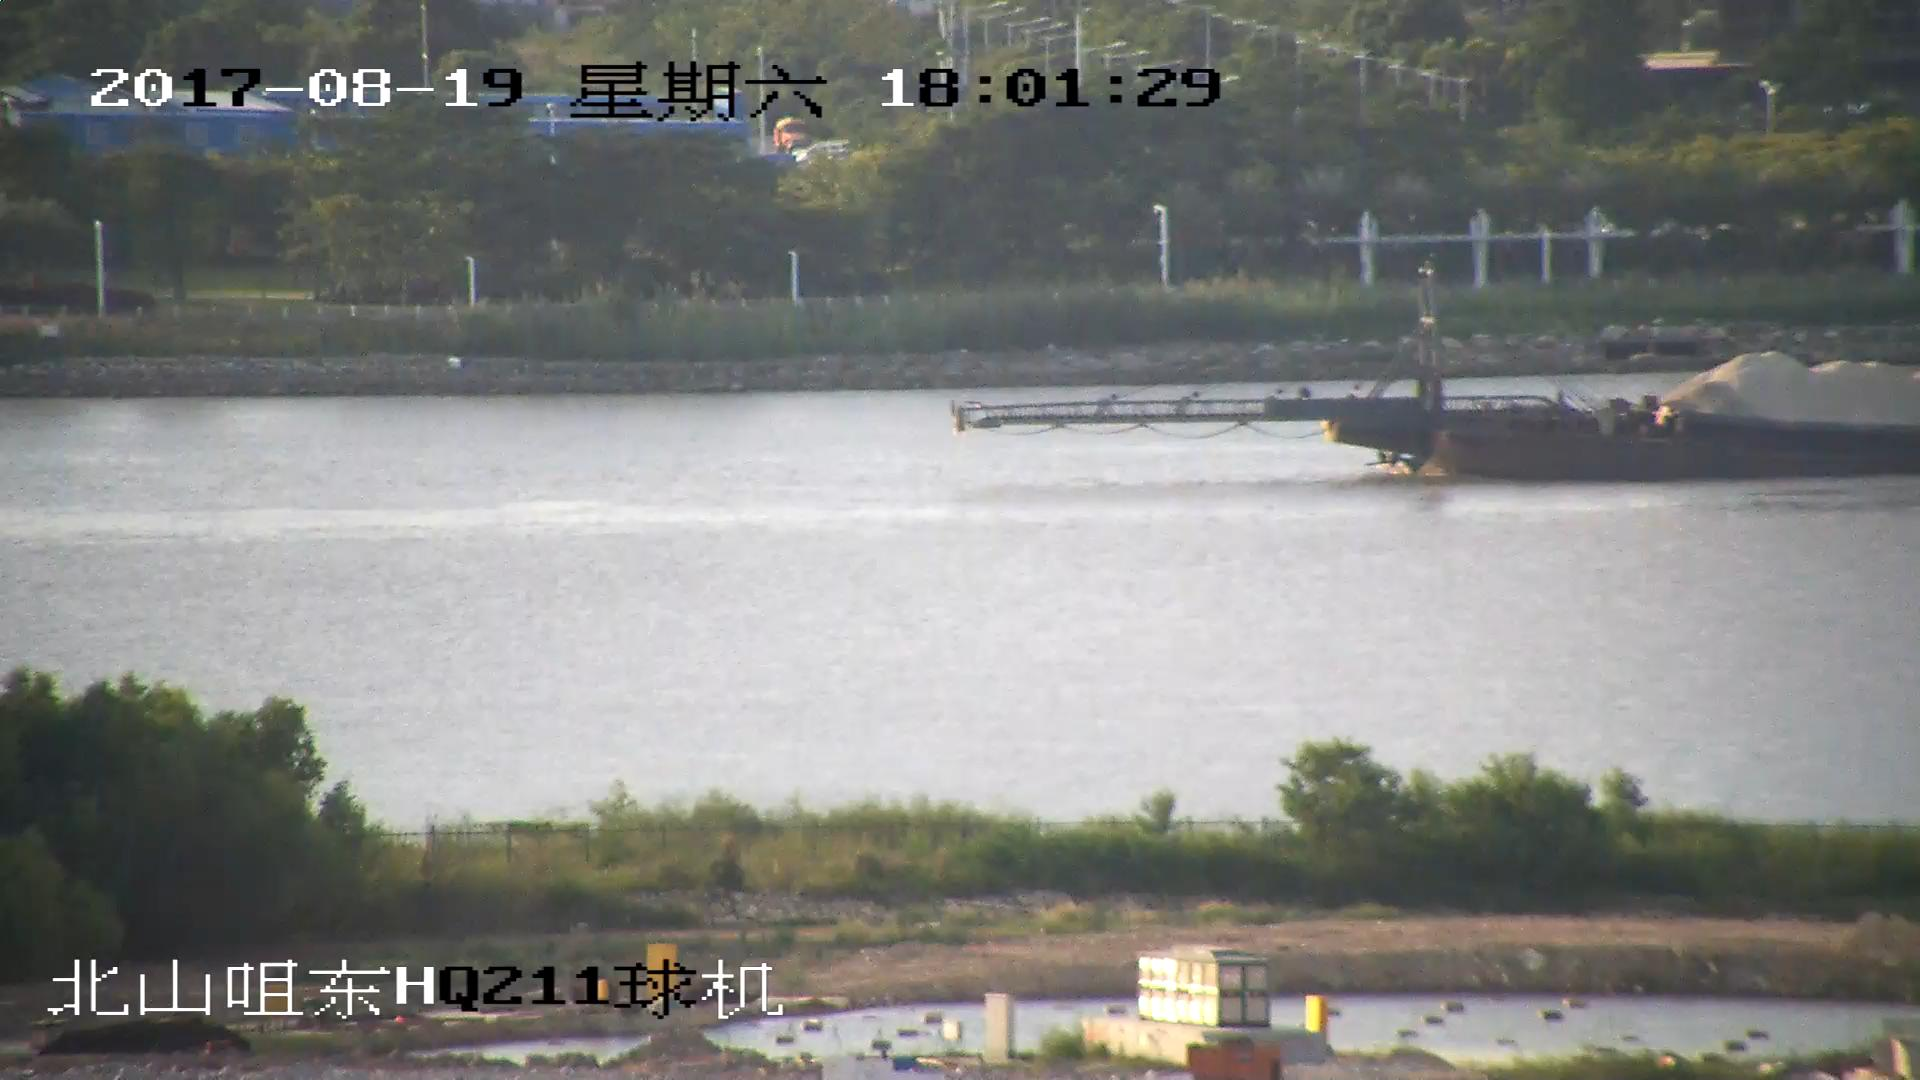ore carrier: (947, 270, 1920, 486)
